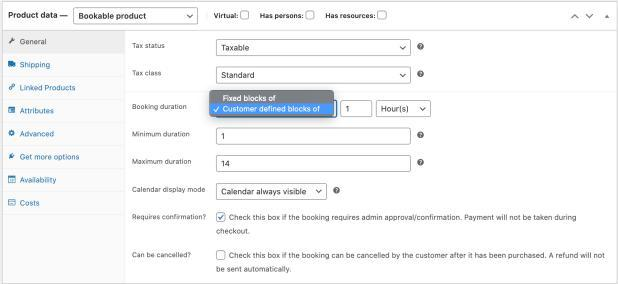checkbox: (240, 10, 251, 22), (216, 250, 227, 262), (216, 212, 227, 223), (305, 11, 316, 21), (378, 11, 388, 21)
dropdown: (218, 67, 412, 85), (217, 40, 412, 57), (74, 8, 199, 25), (217, 184, 328, 202), (377, 101, 431, 118)
icon: (8, 199, 18, 208), (9, 82, 17, 93), (8, 60, 17, 69), (8, 106, 17, 115), (8, 176, 17, 185), (9, 36, 16, 46), (9, 152, 15, 162), (9, 130, 16, 138)
input: (217, 156, 411, 173), (217, 130, 412, 146), (342, 101, 373, 118)
label: (131, 212, 208, 223), (19, 152, 82, 163), (132, 187, 207, 196), (132, 158, 193, 168), (132, 130, 192, 140), (21, 84, 78, 94), (131, 251, 194, 260), (326, 12, 378, 22), (132, 103, 188, 112), (260, 11, 305, 21), (20, 176, 58, 187), (131, 40, 167, 51), (19, 131, 57, 141), (132, 68, 164, 79), (20, 38, 51, 48), (19, 62, 54, 70), (20, 108, 57, 115), (213, 12, 240, 21), (20, 199, 41, 209)
